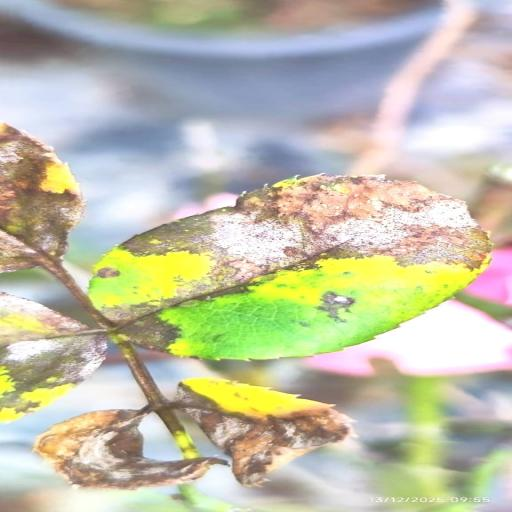thrip: (88, 175, 491, 360)
